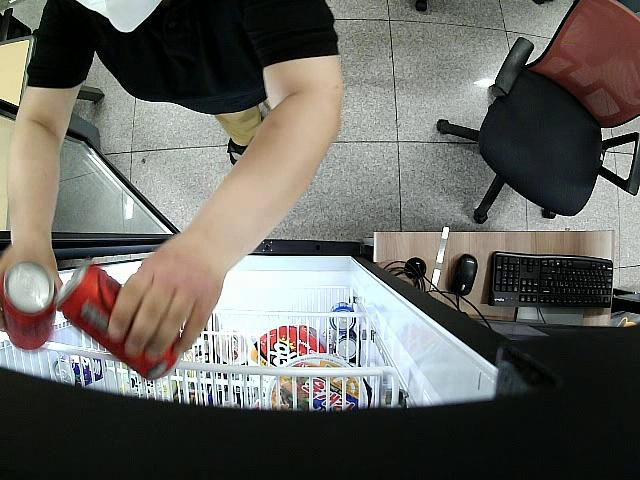00_hand: (107, 234, 221, 358), (0, 242, 64, 289)
11_cocaColaZero: (56, 263, 182, 381), (4, 259, 56, 352)
